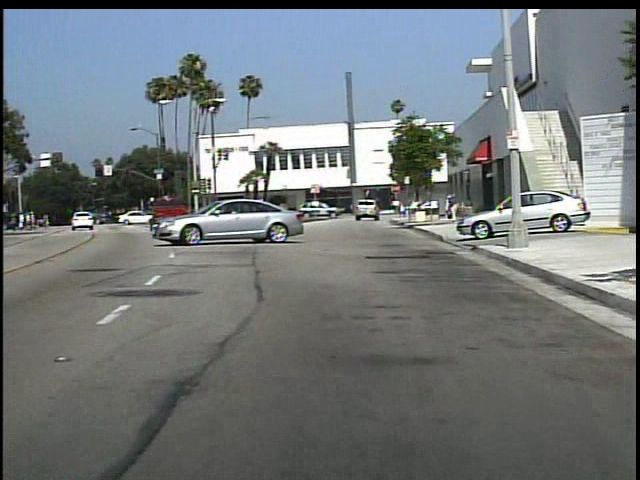person: (447, 191, 461, 226), (443, 194, 453, 223)
